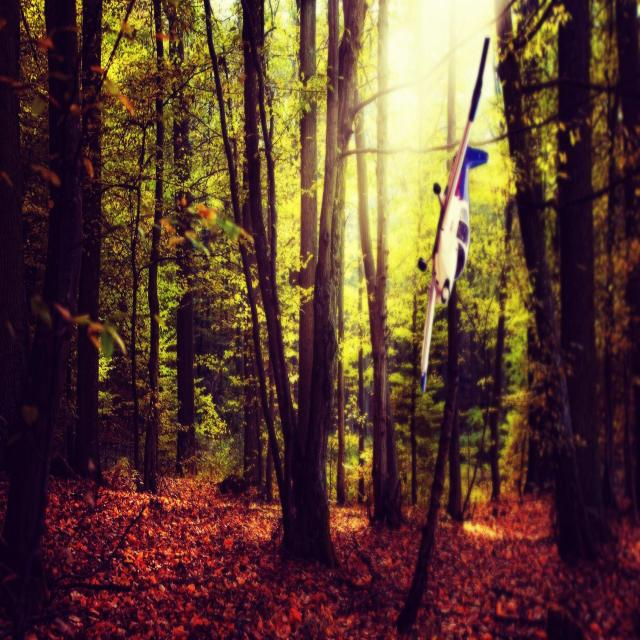airplane: (417, 35, 491, 393)
